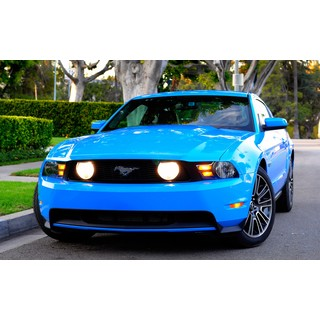car: (31, 89, 296, 247)
